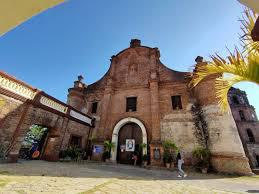Sta. Maria Church: (58, 34, 244, 170)
Unfinished Paint: (159, 98, 246, 157)
